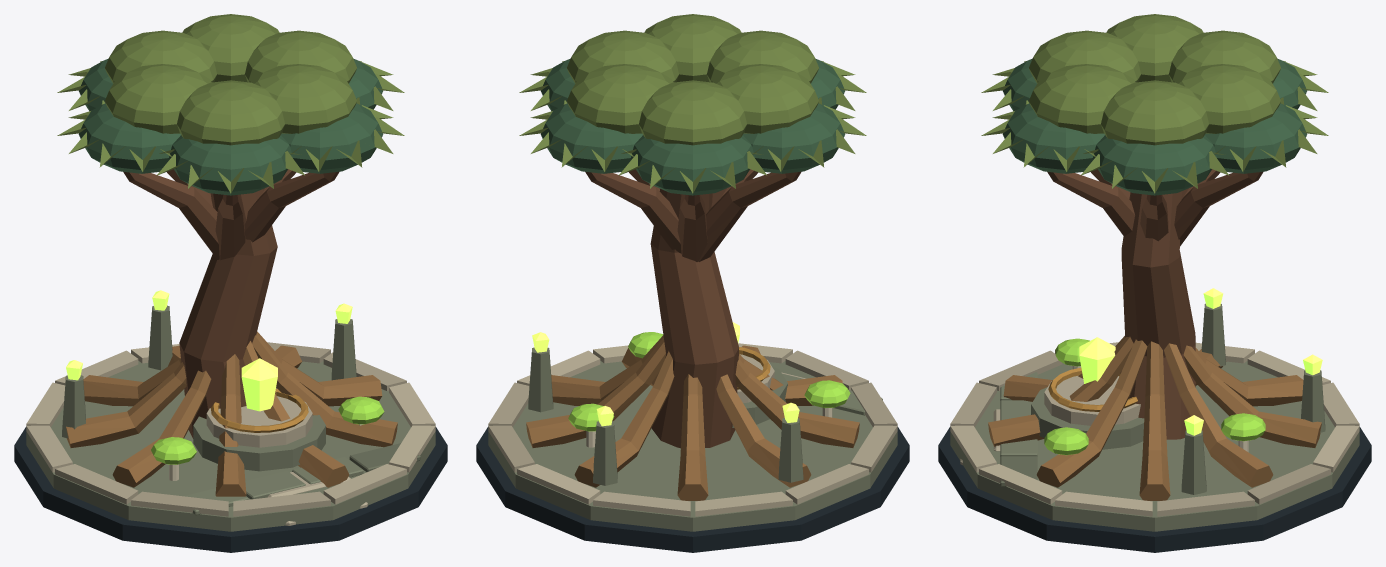
File: nature__bosque__L05.glb
The picture shows the model from 3 angles, left to right: view 1: azimuth 30°, elevation 25°; view 2: azimuth 150°, elevation 25°; view 3: azimuth 270°, elevation 25°; orthographic projection.
Parts seen in each view (by area): view 1: structure, weapon; view 2: structure; view 3: structure, weapon.
Boxes of the visible parts, x1,y1,x2,y2 form: structure: (14,14,447,552); weapon: (241,358,277,411); structure: (476,14,909,552); structure: (938,14,1371,552); weapon: (1079,337,1115,383).
Bounding box in the file's own units: 0.8624 × 0.8892 × 0.8624.
